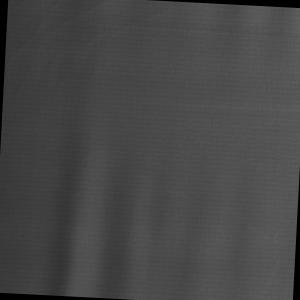Wrinkle: (17, 112, 288, 300), (4, 1, 300, 118)
